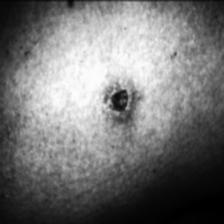Potentially Malignant Skin Tumors: (103, 76, 137, 116)
